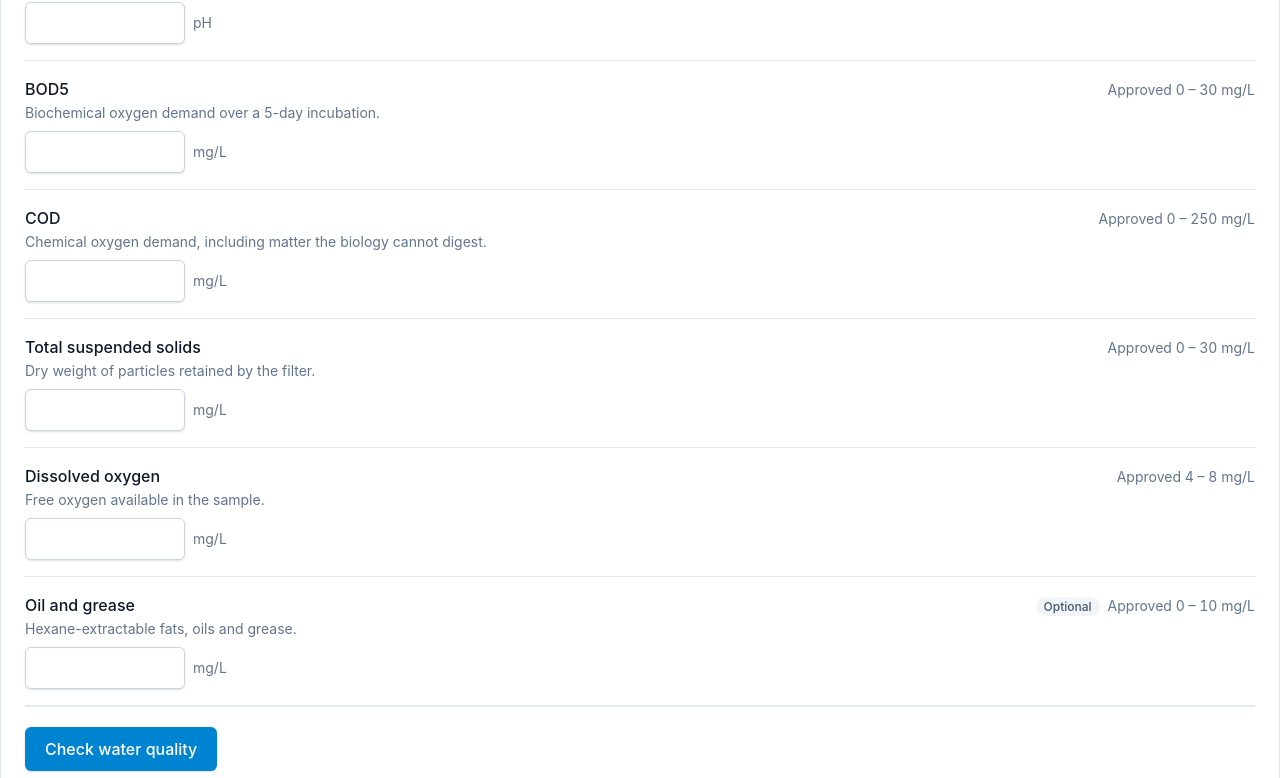
Scenario: LandingPage › blocks submission and flags every field when the form is empty
The width and height of the screenshot is (1280, 778).
(page scrolled)
Click the button "Check water quality".
click(121, 749)  # box [25, 727, 217, 771]
(page scrolled)
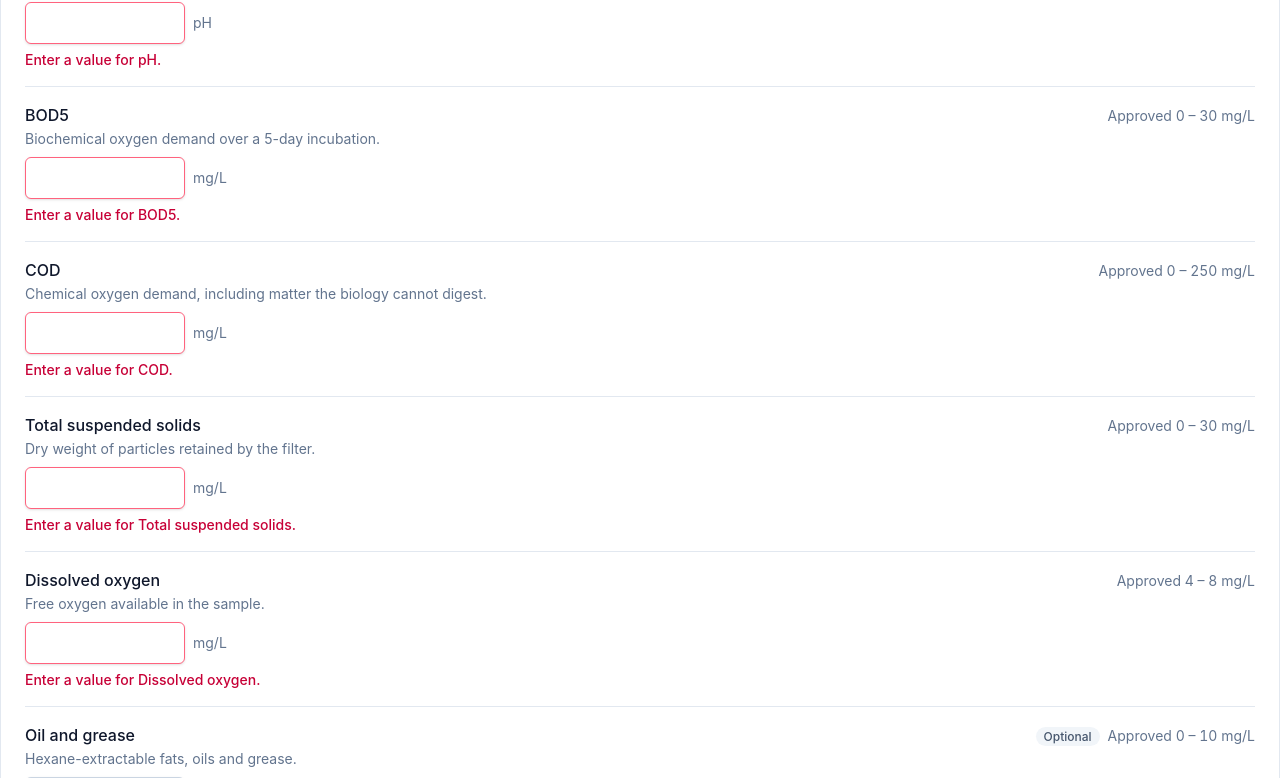
Now the number of messages is 8
